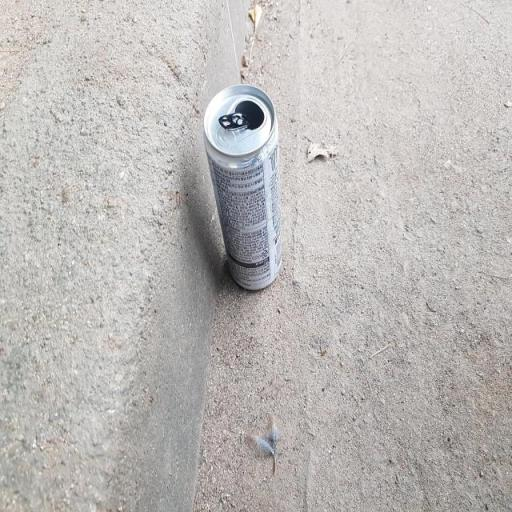metal: (183, 70, 302, 322)
